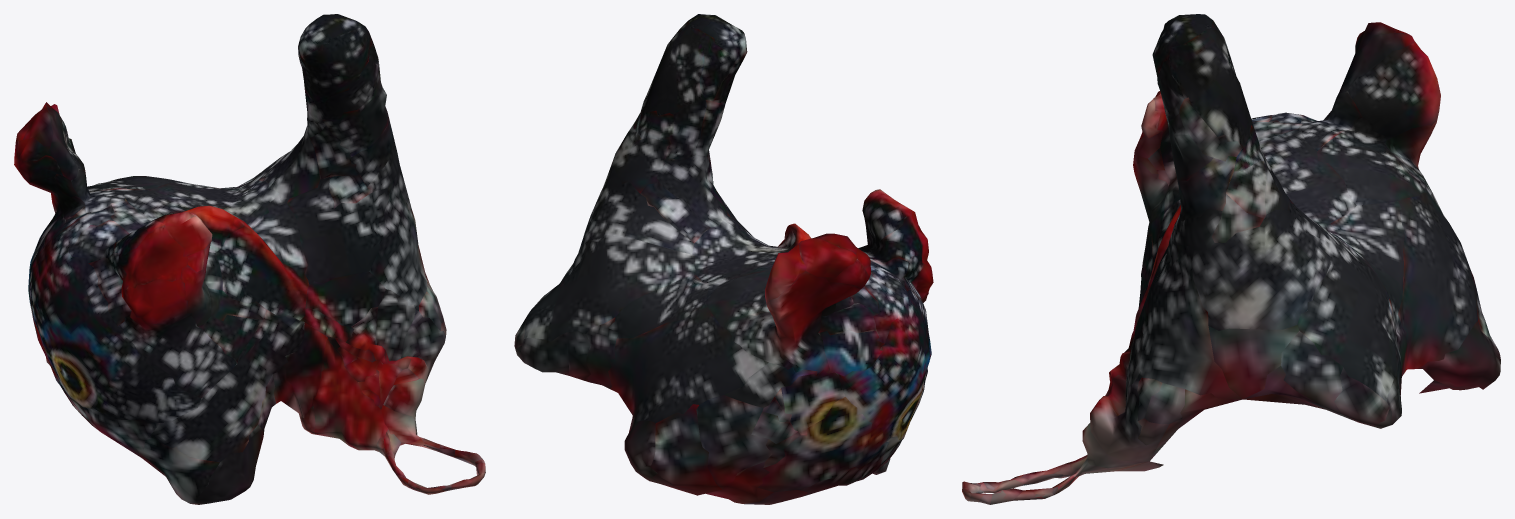
The model's file is hall.glb.
The picture shows the model from 3 angles, left to right: view 1: azimuth 30°, elevation 25°; view 2: azimuth 150°, elevation 25°; view 3: azimuth 270°, elevation 25°; orthographic projection. The views are drawn at different scales.
Bounding box in the file's own units: 0.9078 × 1.01 × 1.
Materials: 1 (1 with a texture image).
